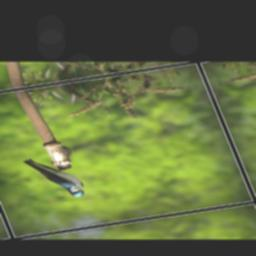Swallow: (21, 151, 89, 204)
